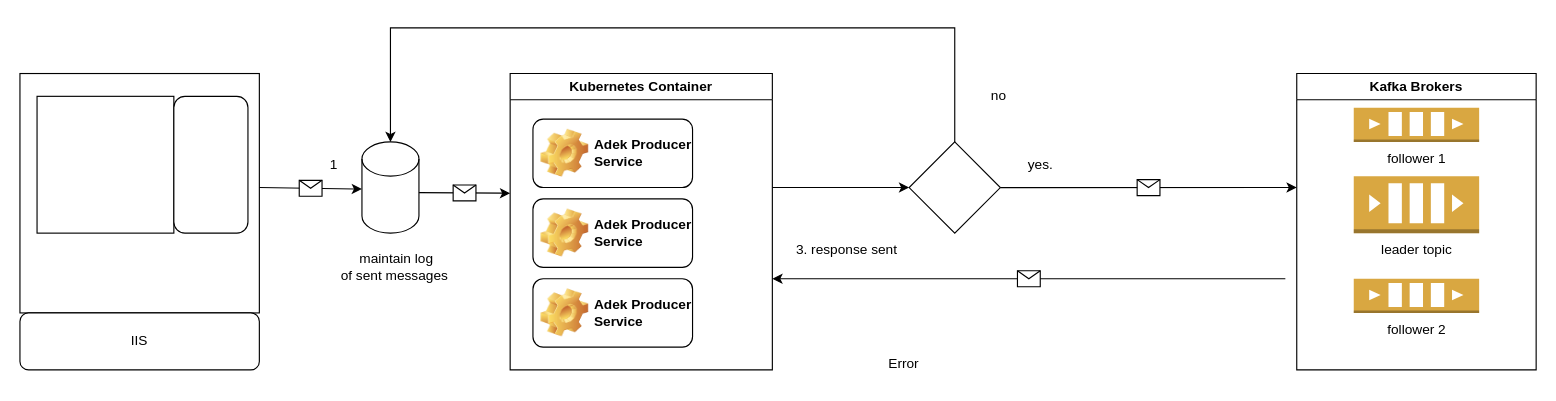
Some shapes in this 1556 by 401 pixel diagram are drawn without their labels. Each missing label, with the centre of its shape:
Micro service 1: point 105,164
Producer rest client: point 210,164
Schema Validation: point 954,187
